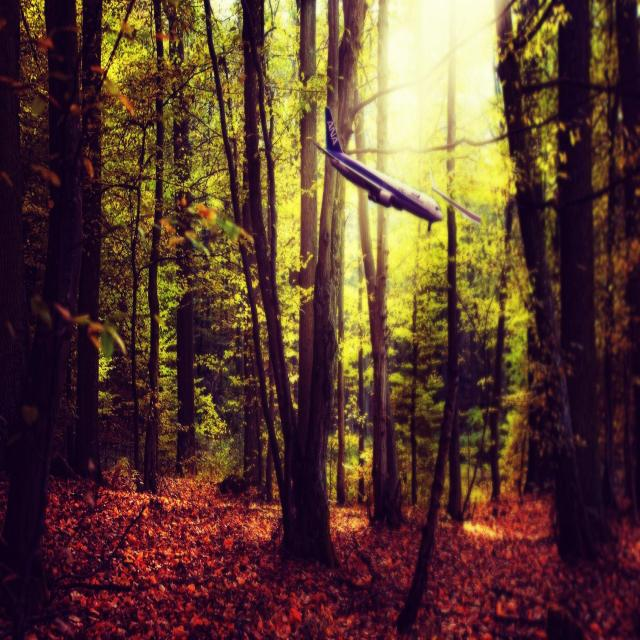airplane: (307, 106, 482, 232)
